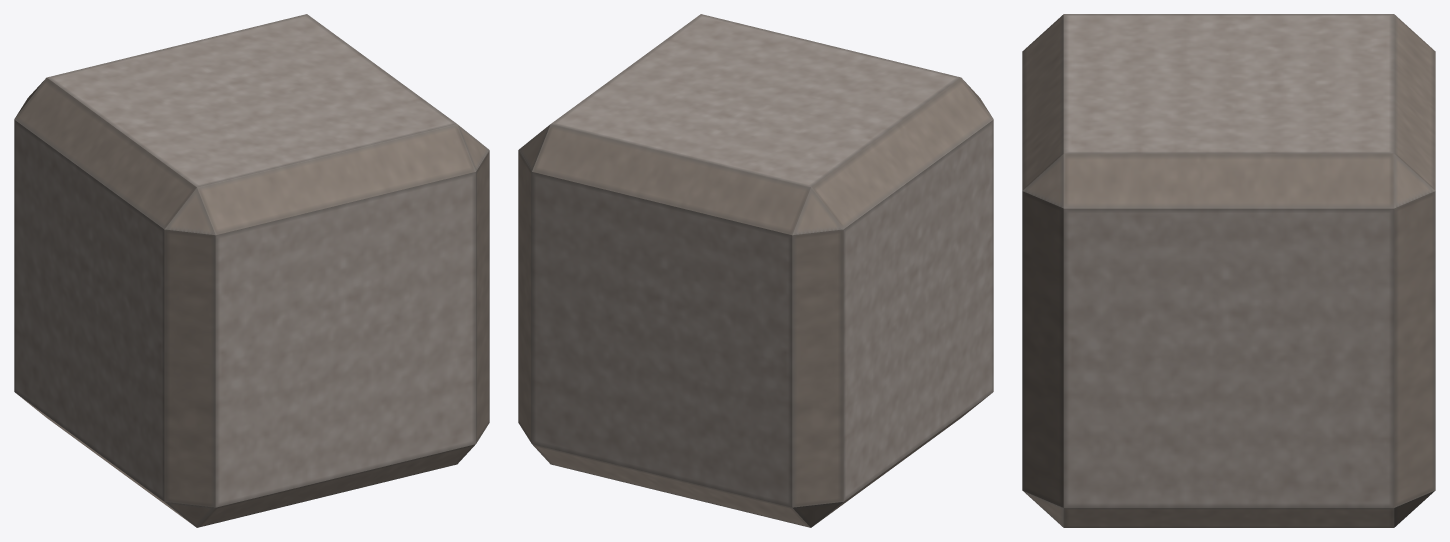
File: Stone01.fbx
3 renders of one model, left to right at view 1: azimuth 30°, elevation 25°; view 2: azimuth 150°, elevation 25°; view 3: azimuth 270°, elevation 25°, orthographic. The views are drawn at different scales.
Parts seen in each view (by area): view 1: pCube1; view 2: pCube1; view 3: pCube1.
Part boxes in pixels (box(x1,y1,x2,y2)): pCube1: box(14, 14, 489, 527); pCube1: box(518, 14, 993, 527); pCube1: box(1022, 14, 1435, 527).
Bounding box in the file's own units: 2.75 × 2.75 × 2.75.
